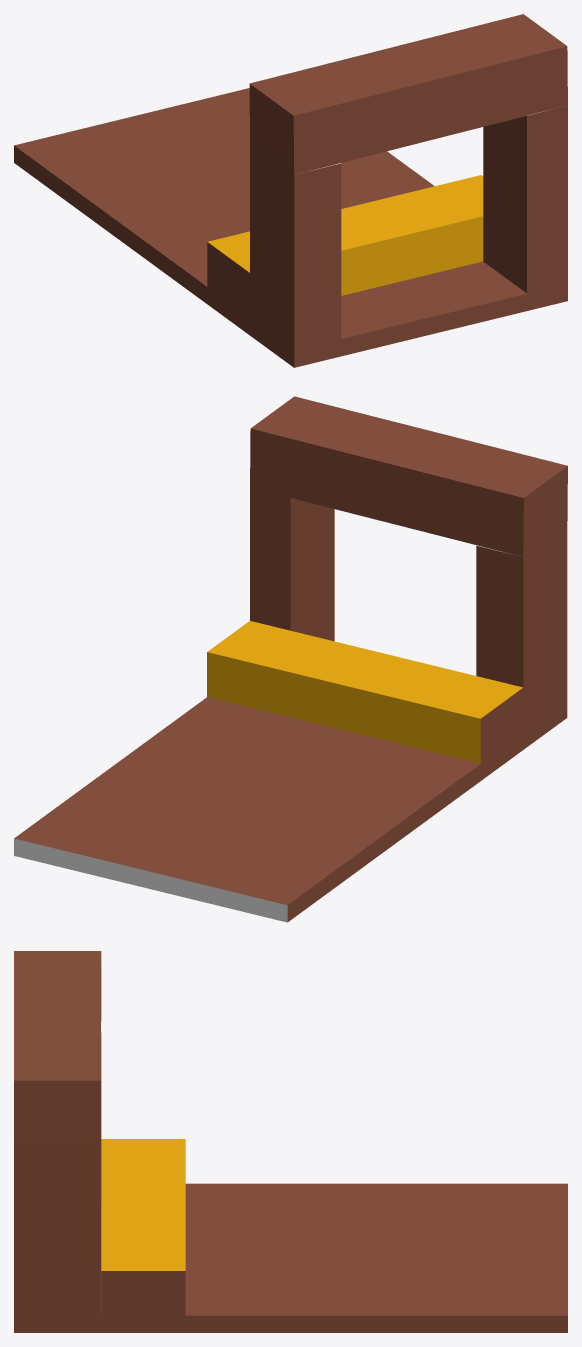
Rendered from recli.fbx.
3 views of the same model, one above another, from view 1: azimuth 30°, elevation 25°; view 2: azimuth 150°, elevation 25°; view 3: azimuth 270°, elevation 25° (orthographic).
Parts seen in each view (by area): view 1: Model; view 2: Model; view 3: Model.
Boxes of the visible parts, bbox=[...] form: Model: bbox=[14, 14, 567, 367]; Model: bbox=[14, 396, 567, 922]; Model: bbox=[14, 951, 567, 1332].
Bounding box in the file's own units: 131 × 116 × 232.
